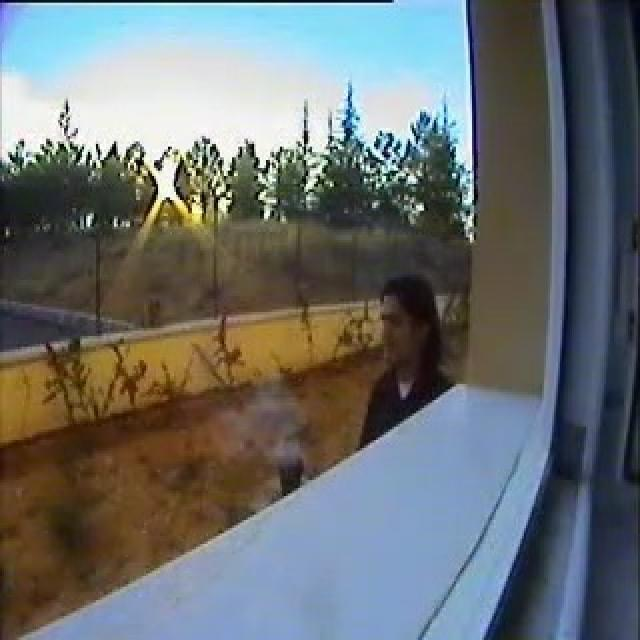smoke: (247, 404, 299, 465)
